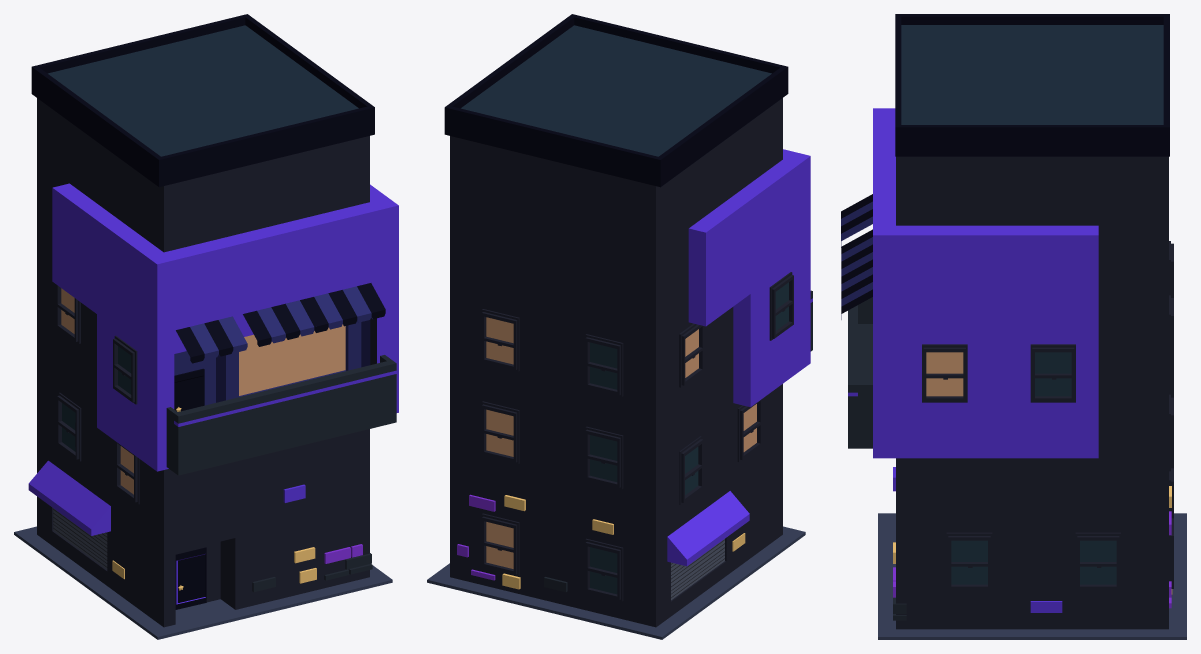
File: Building_ScramblyBox01.fbx
3 views of the same model, side by side, from view 1: azimuth 30°, elevation 25°; view 2: azimuth 150°, elevation 25°; view 3: azimuth 270°, elevation 25° (orthographic). The views are drawn at different scales.
Visible parts, largest first — view 1: Cube.746, Cube.748, Cube.749; view 2: Cube.746; view 3: Cube.746.
Part boxes in pixels (<box>): Cube.746: <box>14,14,398,639</box>; Cube.748: <box>175,547,206,609</box>; Cube.749: <box>174,368,204,411</box>; Cube.746: <box>427,14,812,639</box>; Cube.746: <box>841,14,1186,639</box>.
Size of the model in its own units: 671 by 1211 by 747.
